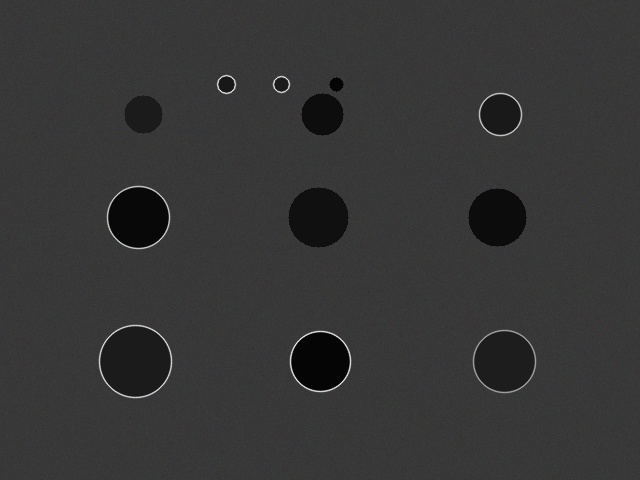hole: (99, 325, 171, 397), (107, 186, 169, 248), (473, 330, 535, 392), (288, 187, 348, 247), (290, 331, 350, 391), (468, 188, 526, 246), (301, 93, 343, 135), (479, 93, 521, 135), (124, 95, 162, 133), (217, 75, 235, 93), (273, 76, 289, 92), (329, 77, 343, 91)
